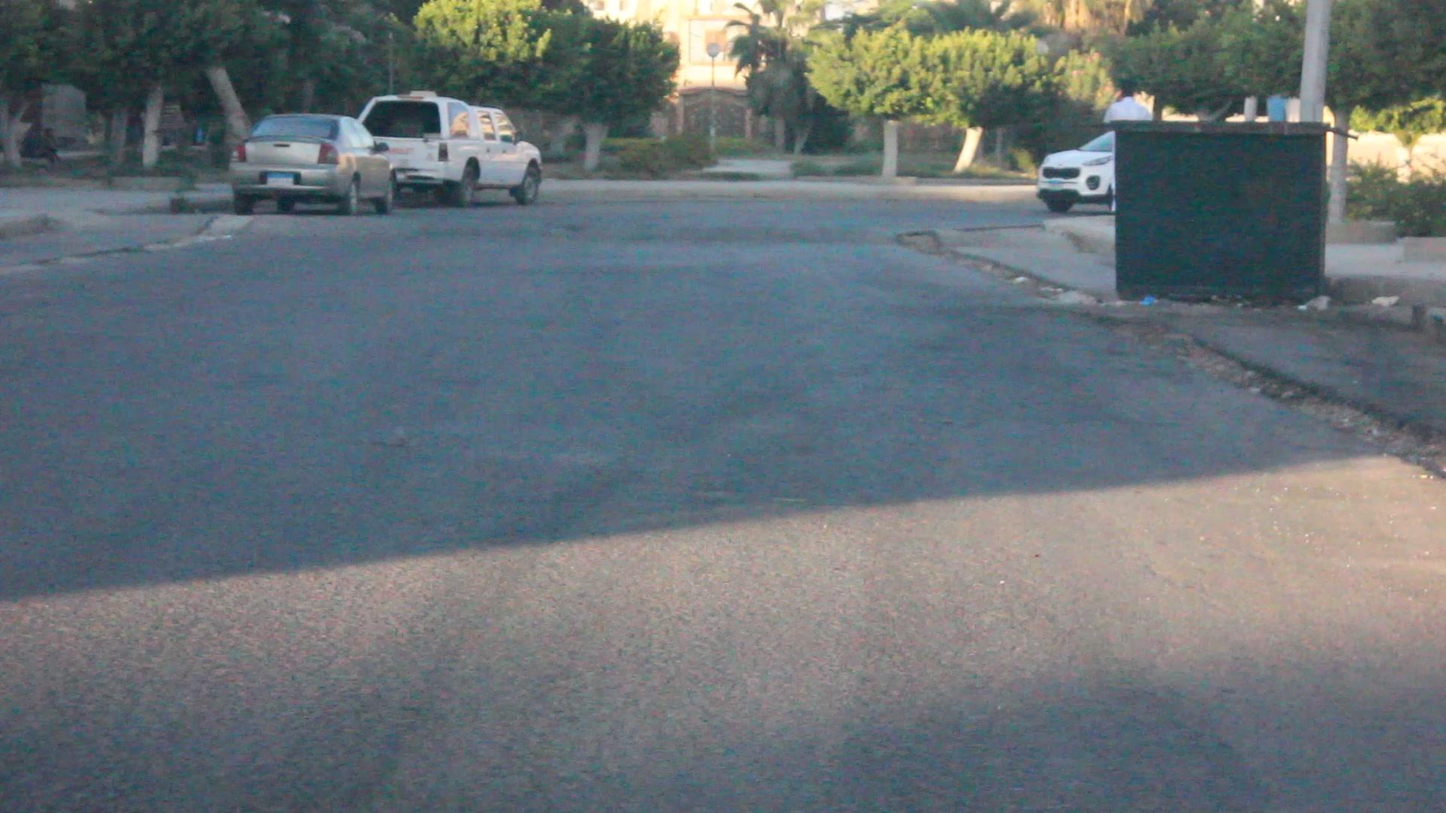Bump: (141, 199, 936, 243)
